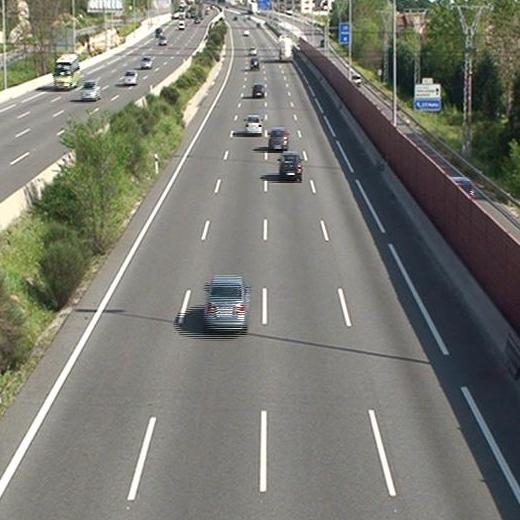car: (204, 277, 248, 330), (279, 152, 302, 177), (268, 128, 288, 150), (244, 116, 263, 135), (251, 85, 264, 98), (250, 58, 260, 70), (248, 48, 255, 56)
tank-truck: (279, 36, 292, 61)
